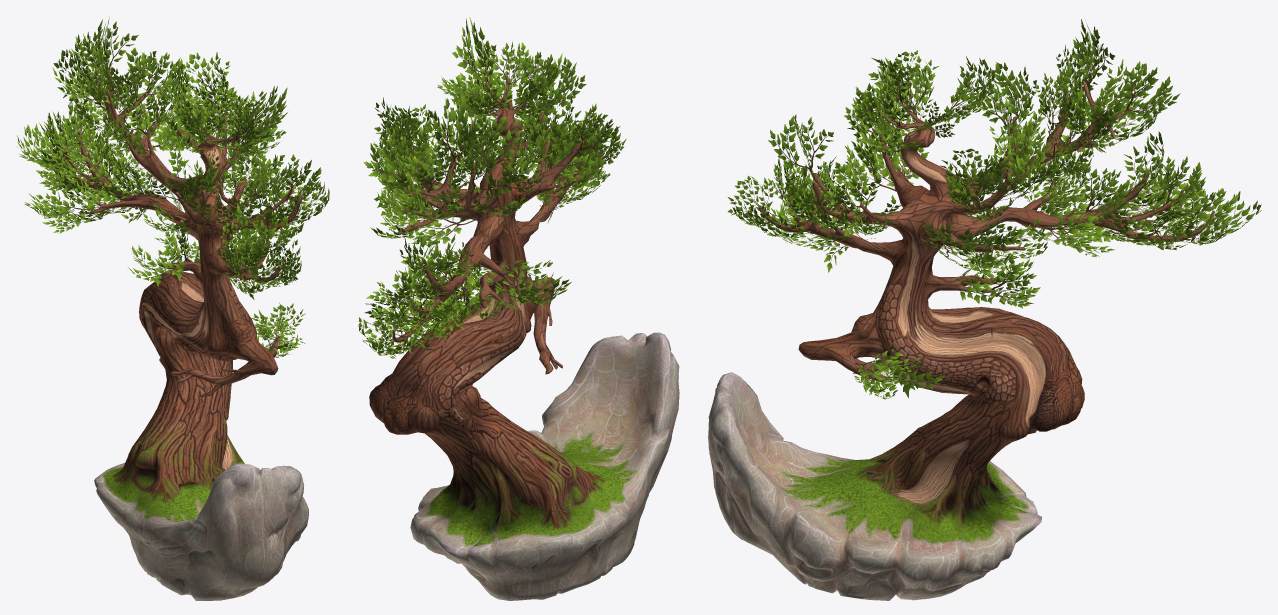
The model's file is bonsai-de-la-terre.glb.
3 views of the same model, side by side, from view 1: azimuth 30°, elevation 25°; view 2: azimuth 150°, elevation 25°; view 3: azimuth 270°, elevation 25° (orthographic). The views are drawn at different scales.
Visible parts, largest first — view 1: object 1, Crown; view 2: object 1, Crown; view 3: object 1, Crown.
Part boxes in pixels (x1,y1,x2,y2): object 1: [50, 72, 308, 600]; Crown: [17, 17, 329, 357]; object 1: [369, 76, 679, 600]; Crown: [358, 17, 626, 358]; object 1: [708, 81, 1214, 600]; Crown: [727, 19, 1261, 399].
Size of the model in its own units: 237 by 504 by 459.
2 materials, 2 textured.
